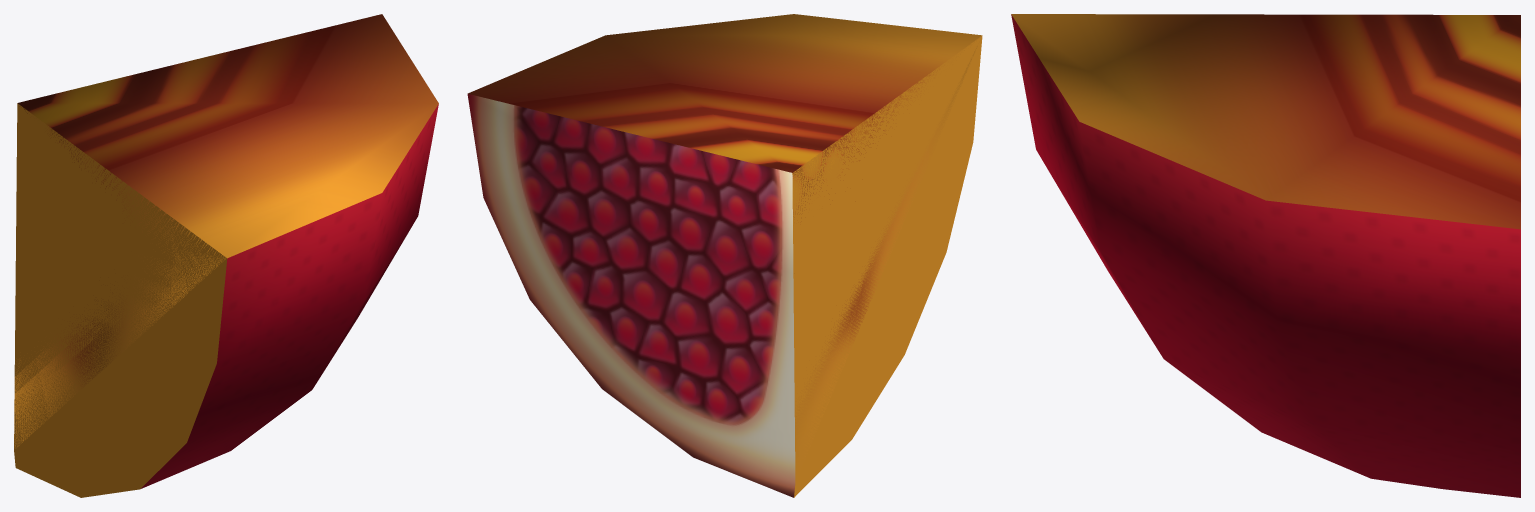
The model's file is Pome_Bottom1.fbx.
3 views of the same model, side by side, from view 1: azimuth 30°, elevation 25°; view 2: azimuth 150°, elevation 25°; view 3: azimuth 270°, elevation 25° (orthographic). The views are drawn at different scales.
Visible parts, largest first — view 1: Pomegranate_Bottom1; view 2: Pomegranate_Bottom1; view 3: Pomegranate_Bottom1.
Boxes of the visible parts, x1,y1,x2,y2 form: Pomegranate_Bottom1: (14,14,438,497); Pomegranate_Bottom1: (467,14,982,497); Pomegranate_Bottom1: (1011,14,1520,497).
Size of the model in its own units: 0.7533 by 0.7125 by 0.75.
